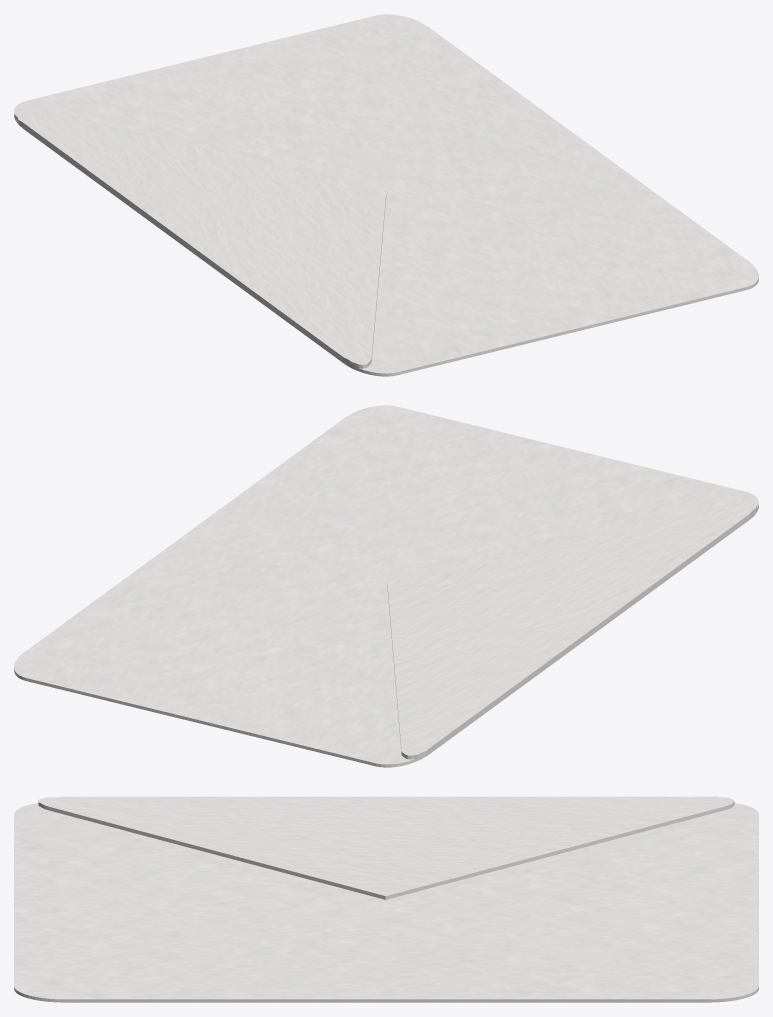
File: Amplop.fbx
The picture shows the model from 3 angles, top to bottom: view 1: azimuth 30°, elevation 25°; view 2: azimuth 150°, elevation 25°; view 3: azimuth 270°, elevation 25°; orthographic projection.
Visible parts, largest first — view 1: Cube, Cube.001; view 2: Cube, Cube.001; view 3: Cube, Cube.001.
Part boxes in pixels (x1,y1,x2,y2): Cube: [14, 14, 758, 376]; Cube.001: [14, 110, 386, 368]; Cube: [14, 405, 758, 767]; Cube.001: [387, 501, 757, 759]; Cube: [14, 803, 758, 1002]; Cube.001: [38, 796, 734, 899].
Bounding box in the file's own units: 127 × 2.05 × 200.
Materials: 1 (1 with a texture image).
